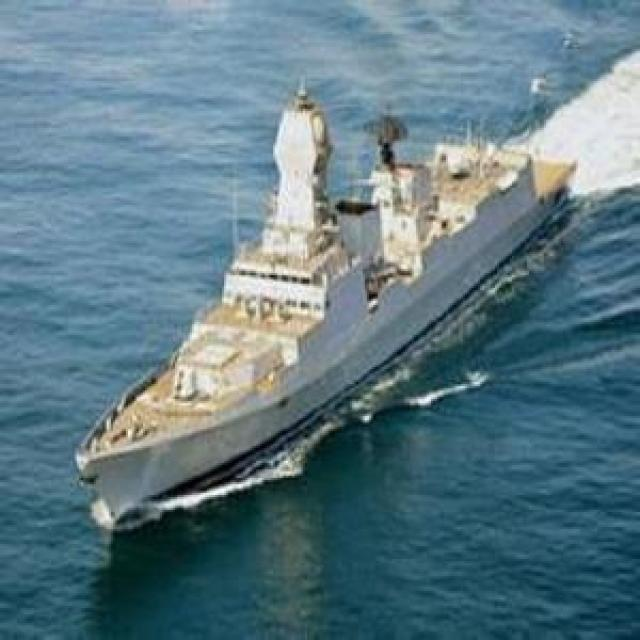navalvessels: (56, 70, 600, 543)
